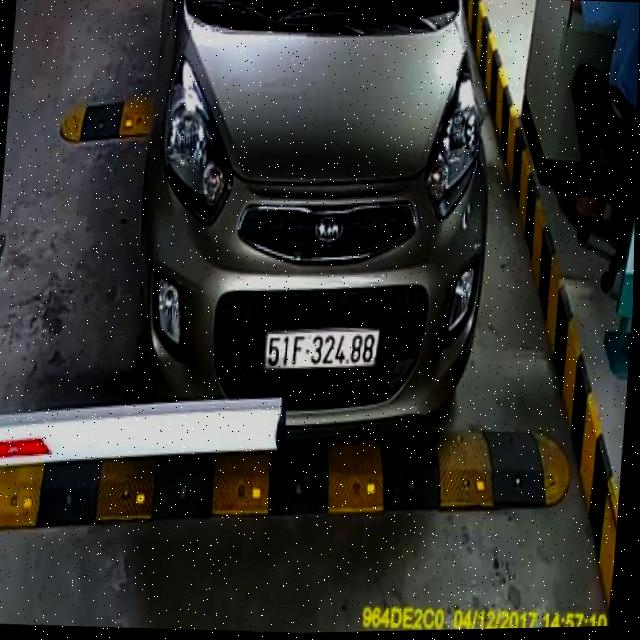car: (103, 0, 529, 461)
plate: (262, 325, 380, 379)
